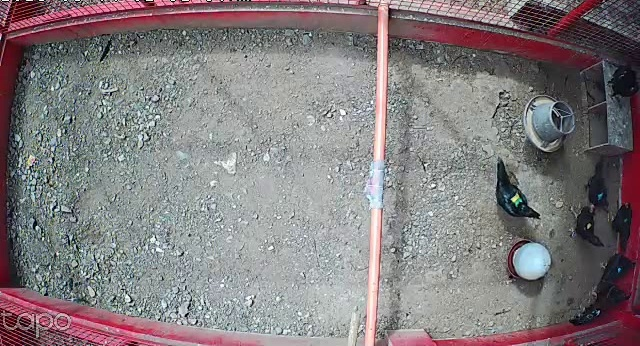Chicken: (489, 153, 544, 222), (567, 200, 608, 246), (606, 197, 634, 255), (586, 160, 614, 213), (600, 250, 636, 285)
Rooster: (569, 284, 633, 327)
Saddle_Color_Blue: (597, 192, 604, 200), (617, 267, 623, 272)
Saddle_Color_Yellow: (584, 223, 590, 229)
Saddle_Color_YellowGreen: (508, 190, 524, 206)
